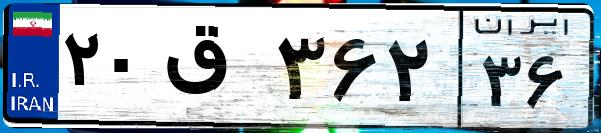0: (110, 28, 158, 98)
2: (385, 28, 445, 110), (57, 26, 110, 100)
3: (270, 28, 330, 110), (475, 38, 525, 113)
6: (330, 28, 385, 110), (525, 38, 570, 115)
ق: (158, 20, 270, 120)
